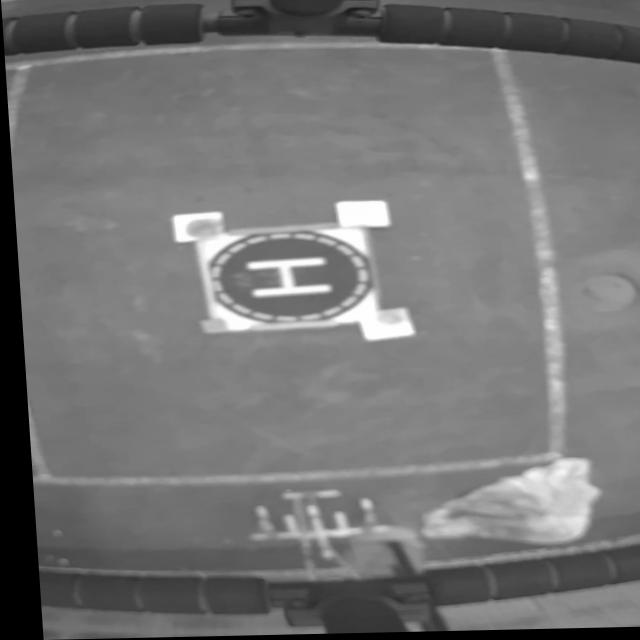Helipad: (242, 258, 326, 300)
